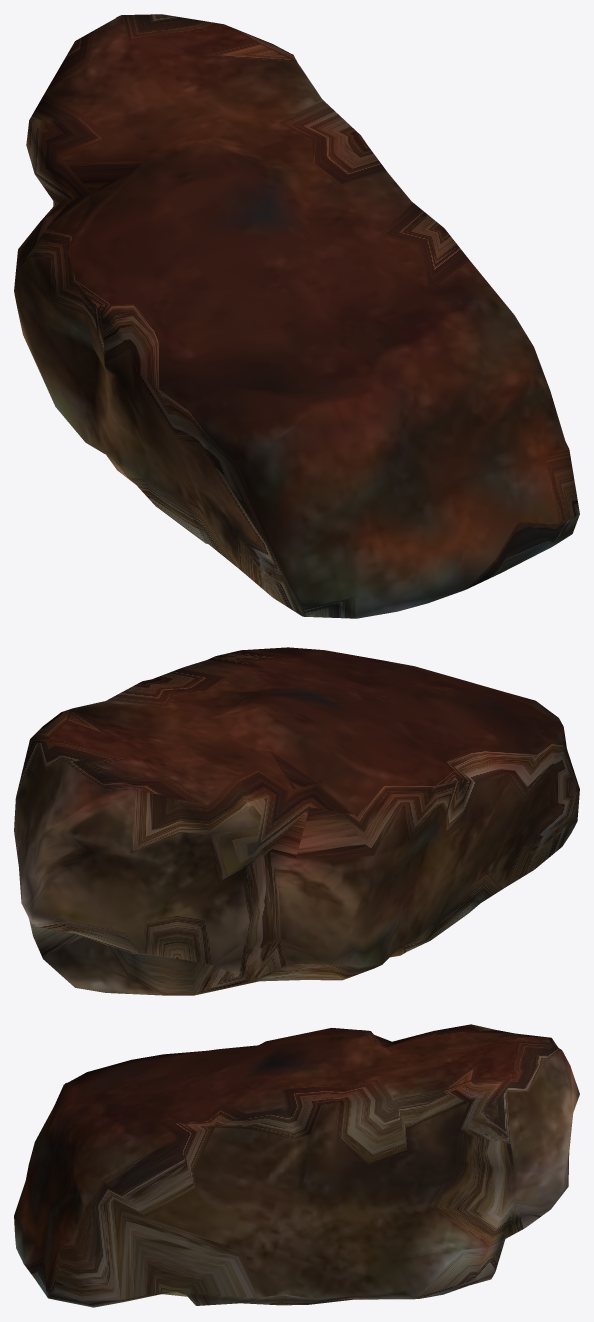
The model's file is rock_07_lod2.glb.
3 views of the same model, one above another, from view 1: azimuth 30°, elevation 25°; view 2: azimuth 150°, elevation 25°; view 3: azimuth 270°, elevation 25° (orthographic). The views are drawn at different scales.
Parts seen in each view (by area): view 1: rock_07; view 2: rock_07; view 3: rock_07.
Part boxes in pixels (x1,y1,x2,y2): rock_07: (14, 14, 579, 618); rock_07: (14, 647, 579, 995); rock_07: (14, 1024, 579, 1307).
Size of the model in its own units: 0.1674 by 0.1437 by 0.3192.
Materials: 1 (1 with a texture image).
